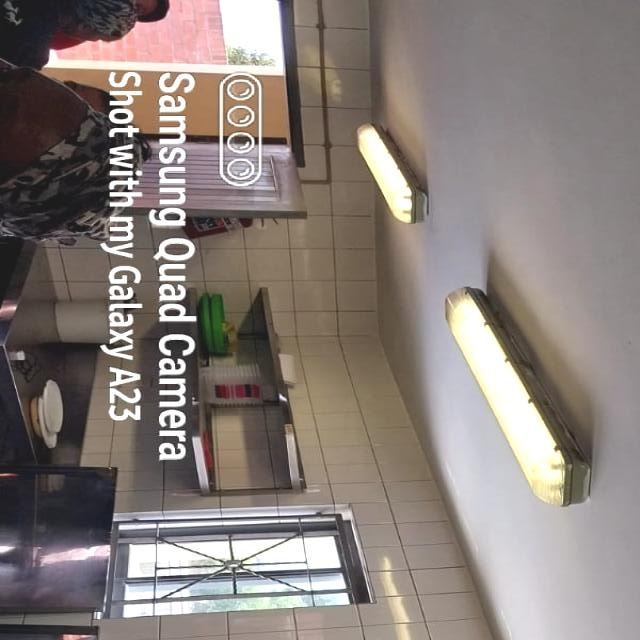fluorescent tube: (413, 243, 611, 521), (338, 100, 446, 235)
